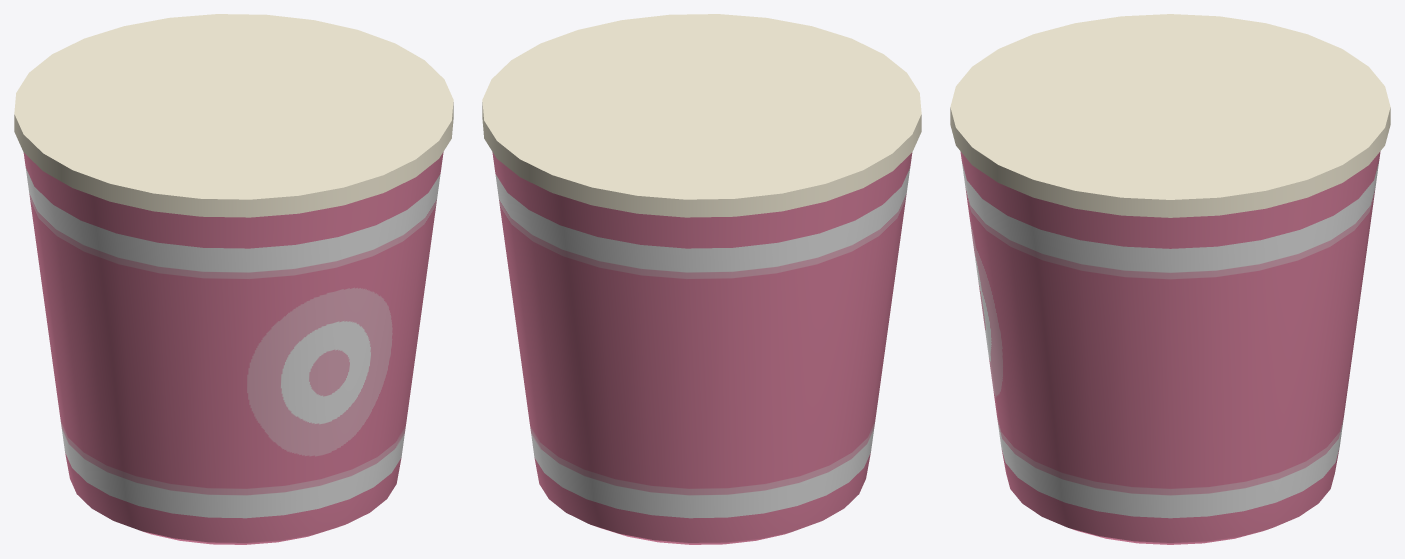
Rendered from Ice_Cream.fbx.
3 views of the same model, side by side, from view 1: azimuth 30°, elevation 25°; view 2: azimuth 150°, elevation 25°; view 3: azimuth 270°, elevation 25° (orthographic).
Visible parts, largest first — view 1: Ice_Cream; view 2: Ice_Cream; view 3: Ice_Cream.
Part boxes in pixels (bbox=[...]): Ice_Cream: bbox=[14, 14, 453, 544]; Ice_Cream: bbox=[482, 14, 921, 544]; Ice_Cream: bbox=[950, 14, 1390, 544].
Bounding box in the file's own units: 0.1339 × 0.126 × 0.1339.
Materials: 3 (1 with a texture image).
